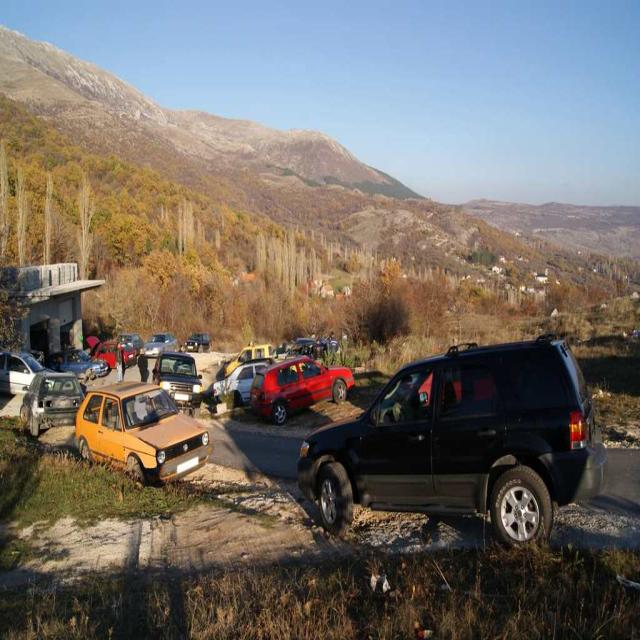car: (293, 340, 597, 559), (73, 375, 215, 486), (248, 347, 354, 418), (20, 369, 90, 436), (151, 347, 201, 410), (214, 353, 267, 406), (0, 347, 46, 393), (225, 342, 288, 373), (48, 344, 108, 374), (90, 339, 136, 363), (140, 330, 178, 357), (184, 332, 214, 353), (119, 325, 140, 344)
